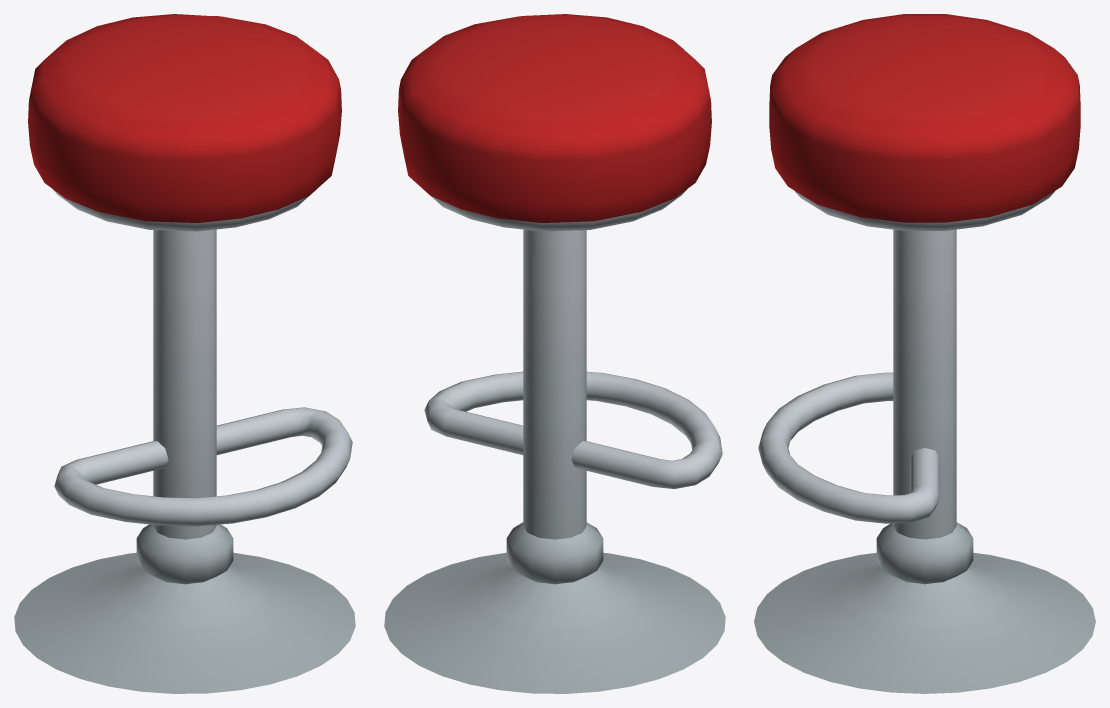
Rendered from Chair_01.glb.
3 views of the same model, side by side, from view 1: azimuth 30°, elevation 25°; view 2: azimuth 150°, elevation 25°; view 3: azimuth 270°, elevation 25° (orthographic).
Visible parts, largest first — view 1: Chair_01; view 2: Chair_01; view 3: Chair_01.
Part boxes in pixels (bbox=[...]): Chair_01: bbox=[14, 14, 355, 693]; Chair_01: bbox=[384, 14, 725, 693]; Chair_01: bbox=[754, 14, 1095, 693].
Size of the model in its own units: 0.4758 by 0.8683 by 0.4758.
Materials: 1 (1 with a texture image).
